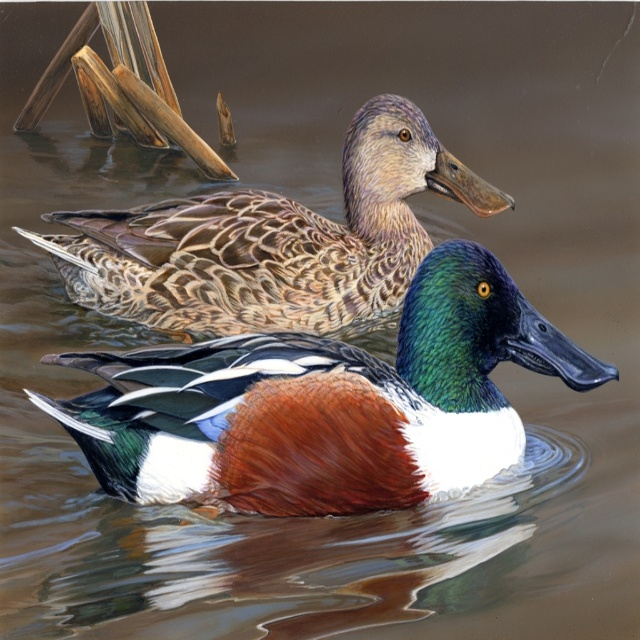Duck: (22, 241, 618, 515), (10, 85, 512, 345)
